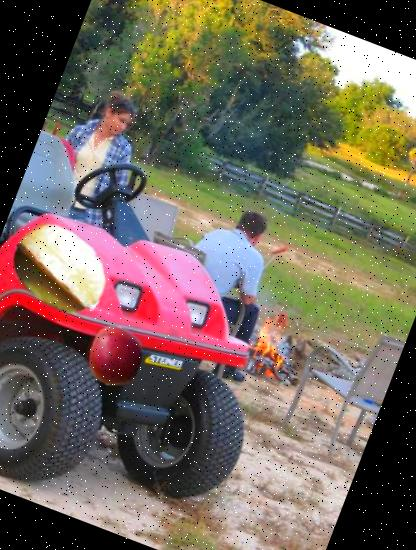Apple: (76, 317, 154, 396)
Carambula: (0, 205, 125, 335)
